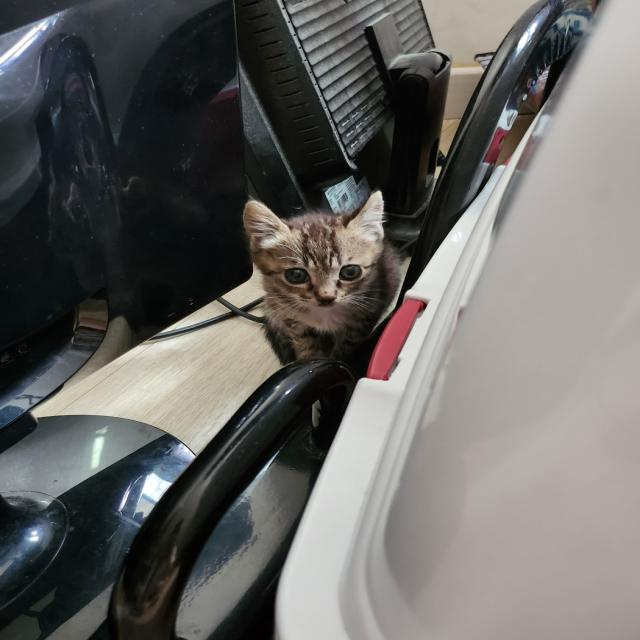cat: (238, 192, 404, 367)
